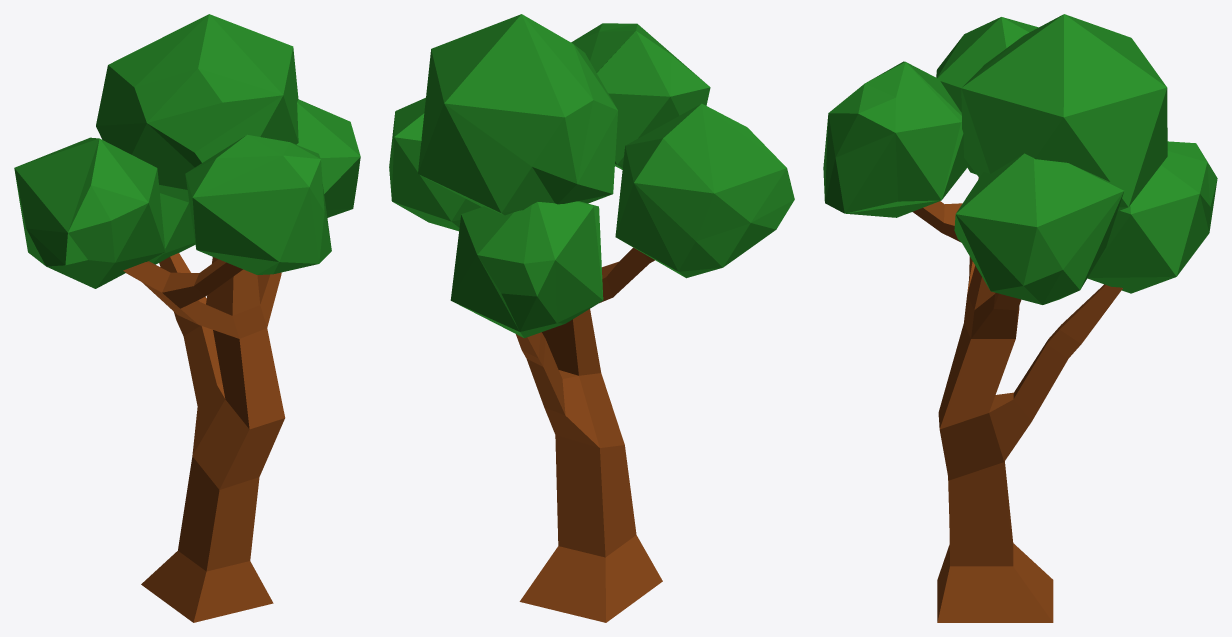
File: low-poly-tree-2.glb
3 renders of one model, left to right at view 1: azimuth 30°, elevation 25°; view 2: azimuth 150°, elevation 25°; view 3: azimuth 270°, elevation 25°, orthographic. The views are drawn at different scales.
Visible parts, largest first — view 1: low-poly-tree-2; view 2: low-poly-tree-2; view 3: low-poly-tree-2.
Part boxes in pixels (<box>): low-poly-tree-2: <box>14,14,360,622</box>; low-poly-tree-2: <box>389,14,794,622</box>; low-poly-tree-2: <box>823,14,1217,622</box>.
Bounding box in the file's own units: 2.71 × 4.32 × 2.55.
